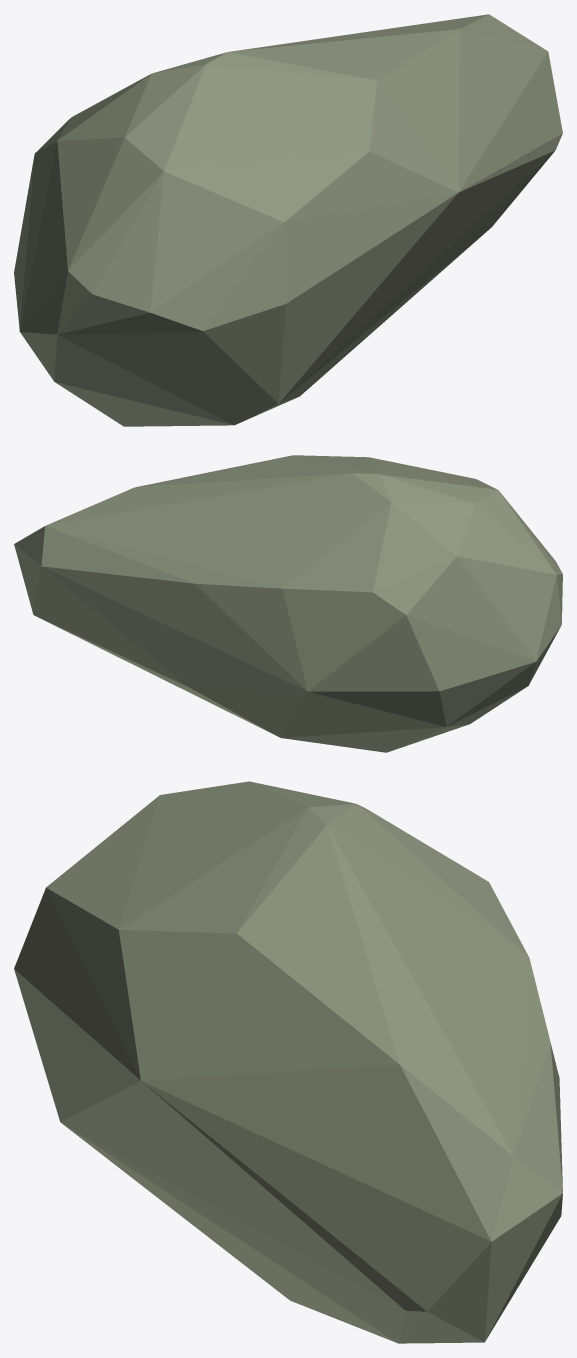
File: food_produce_avocado_g01.glb
The picture shows the model from 3 angles, top to bottom: view 1: azimuth 30°, elevation 25°; view 2: azimuth 150°, elevation 25°; view 3: azimuth 270°, elevation 25°; orthographic projection. The views are drawn at different scales.
Parts seen in each view (by area): view 1: geometry_0; view 2: geometry_0; view 3: geometry_0.
Part boxes in pixels (bbox=[...]): geometry_0: bbox=[14, 14, 562, 426]; geometry_0: bbox=[14, 455, 562, 752]; geometry_0: bbox=[14, 781, 562, 1343].
Size of the model in its own units: 0.4718 by 0.2619 by 0.2896.
